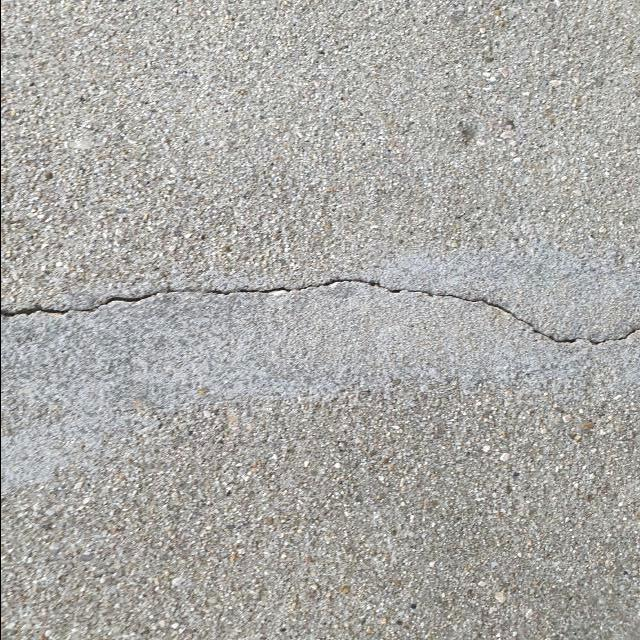SurfaceCrack: (0, 236, 639, 379)
